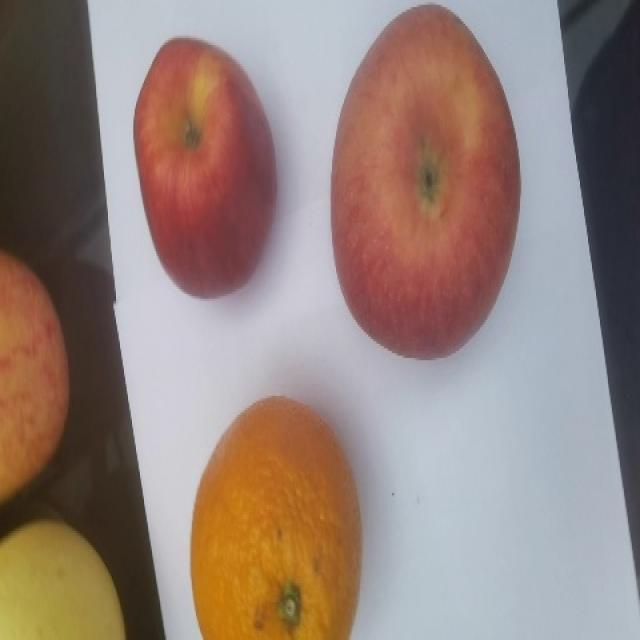Apple: (329, 3, 521, 360), (132, 36, 277, 299), (0, 248, 70, 506)
Orange: (189, 394, 362, 639)
